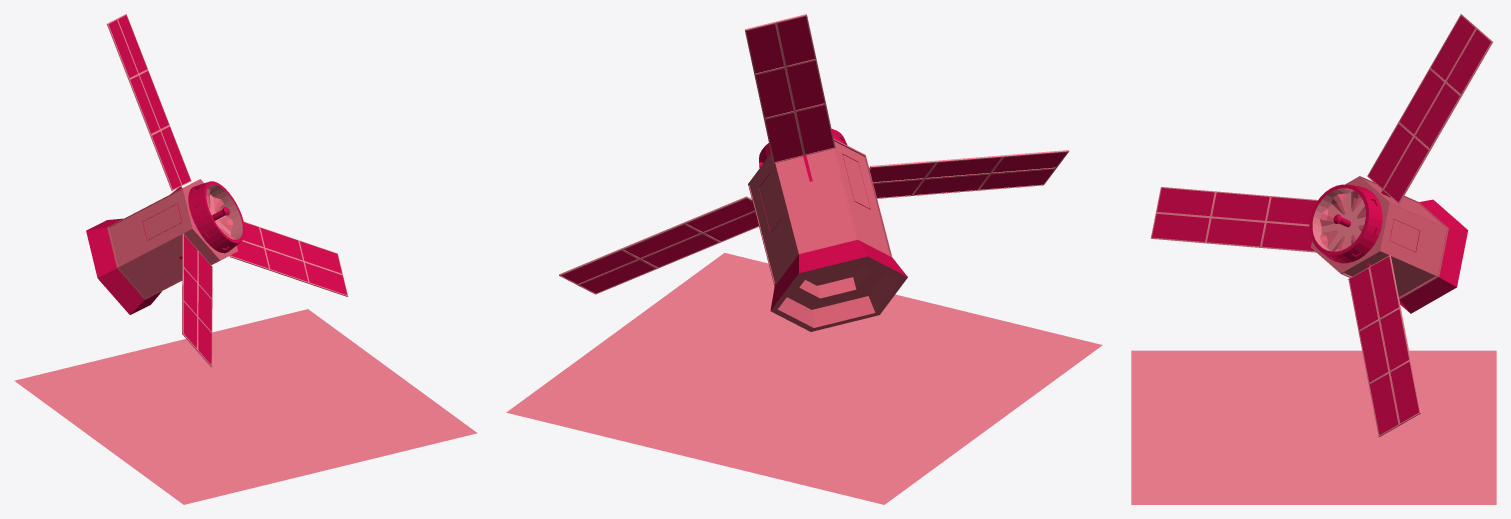
File: satellite_2_pink.fbx
3 views of the same model, side by side, from view 1: azimuth 30°, elevation 25°; view 2: azimuth 150°, elevation 25°; view 3: azimuth 270°, elevation 25° (orthographic). The views are drawn at different scales.
Parts seen in each view (by area): view 1: Plane, Cylinder.013, pCube10.002, pCube10, pCube10.001, Cylinder.019; view 2: Plane, Cylinder.013, pCube10, pCube10.002, pCube10.001; view 3: Plane, Cylinder.013, pCube10.001, pCube10, pCube10.002, Cylinder.019.
Part boxes in pixels (<box>): Plane: <box>14,309,477,504</box>; Cylinder.013: <box>86,179,237,314</box>; pCube10.002: <box>229,221,348,296</box>; pCube10: <box>107,14,191,190</box>; pCube10.001: <box>182,233,212,367</box>; Cylinder.019: <box>188,181,244,253</box>; Plane: <box>506,253,1102,504</box>; Cylinder.013: <box>748,138,907,331</box>; pCube10: <box>744,14,835,163</box>; pCube10.002: <box>559,196,758,294</box>; pCube10.001: <box>869,150,1069,198</box>; Plane: <box>1131,350,1496,504</box>; Cylinder.013: <box>1311,176,1468,313</box>; pCube10.001: <box>1151,187,1317,252</box>; pCube10: <box>1367,14,1492,204</box>; pCube10.002: <box>1348,255,1420,437</box>; Cylinder.019: <box>1309,184,1382,263</box>.
Size of the model in its own units: 1000 by 1140 by 1000.
